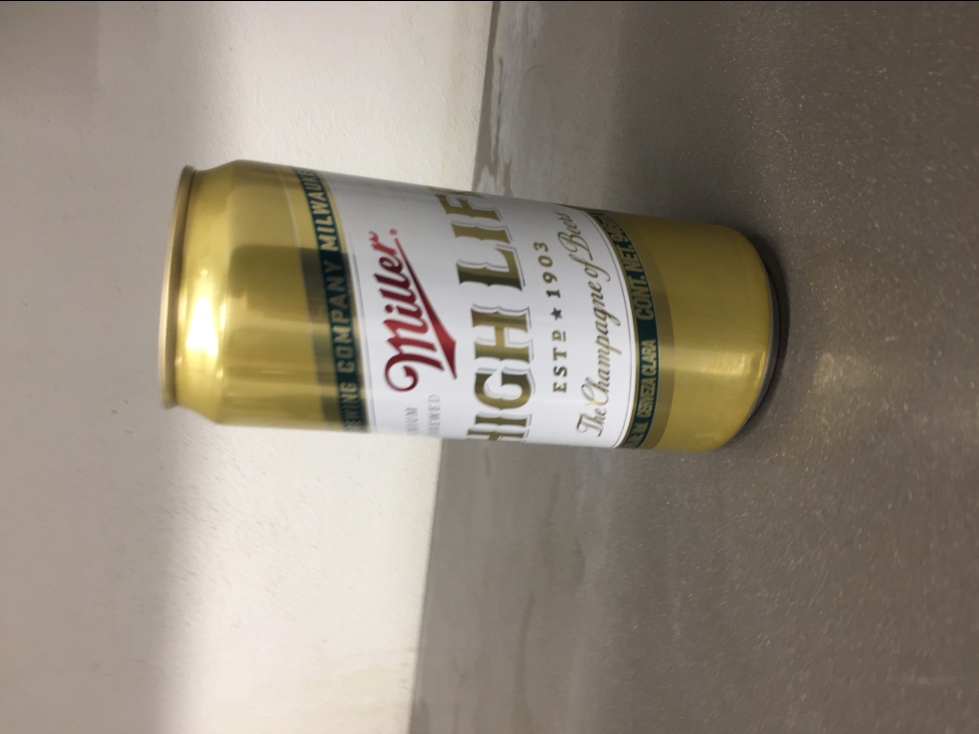miller: (160, 149, 782, 458)
